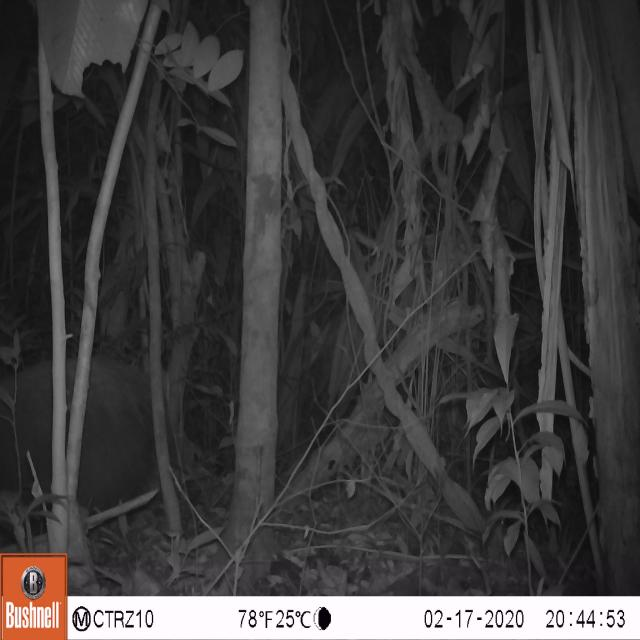Giant Anteater: (0, 345, 218, 525)
